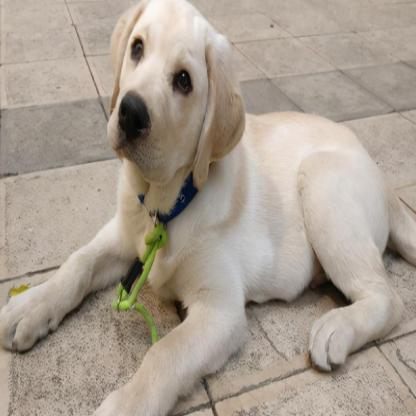dog: (0, 7, 406, 415)
